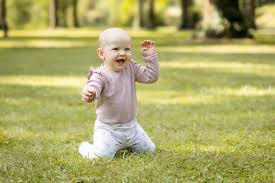child: (76, 25, 162, 161)
